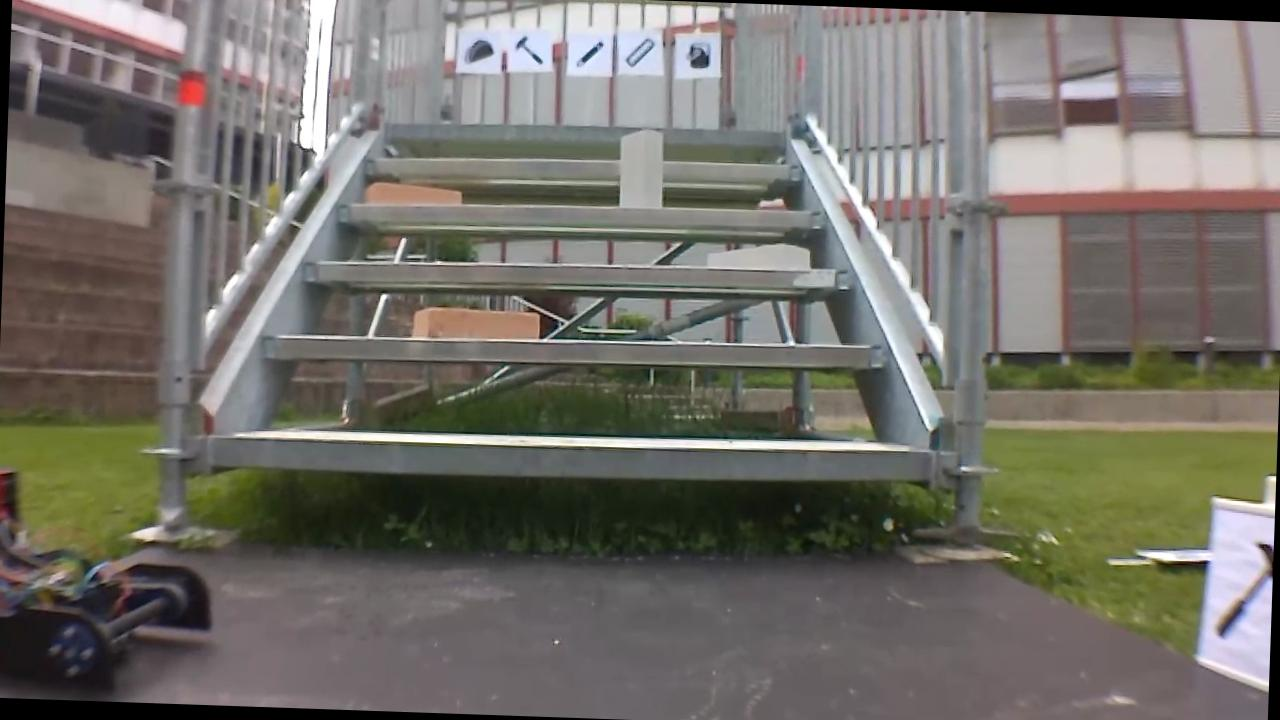brick: (410, 306, 538, 340), (618, 130, 663, 206), (706, 241, 808, 269), (364, 182, 459, 206)
bucket: (679, 35, 716, 71)
edge: (213, 424, 933, 490), (261, 323, 889, 376), (302, 250, 852, 298), (339, 193, 829, 237), (368, 149, 800, 187), (385, 117, 781, 147)
hammer: (509, 31, 548, 70)
pencil: (568, 32, 606, 73)
ruler: (620, 32, 655, 72)
steps: (208, 108, 951, 495)
taco: (459, 35, 496, 69)
